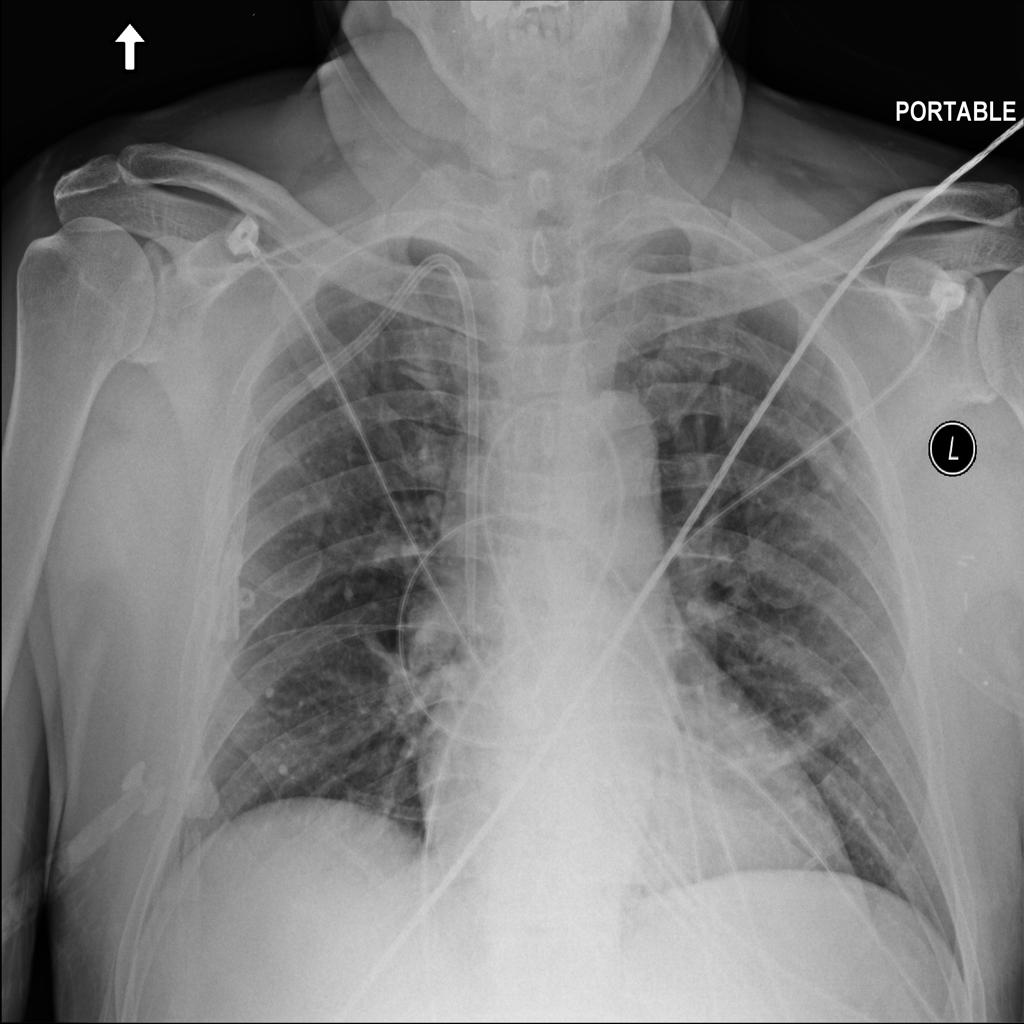nodule: (167, 755, 230, 835), (260, 678, 281, 704)
